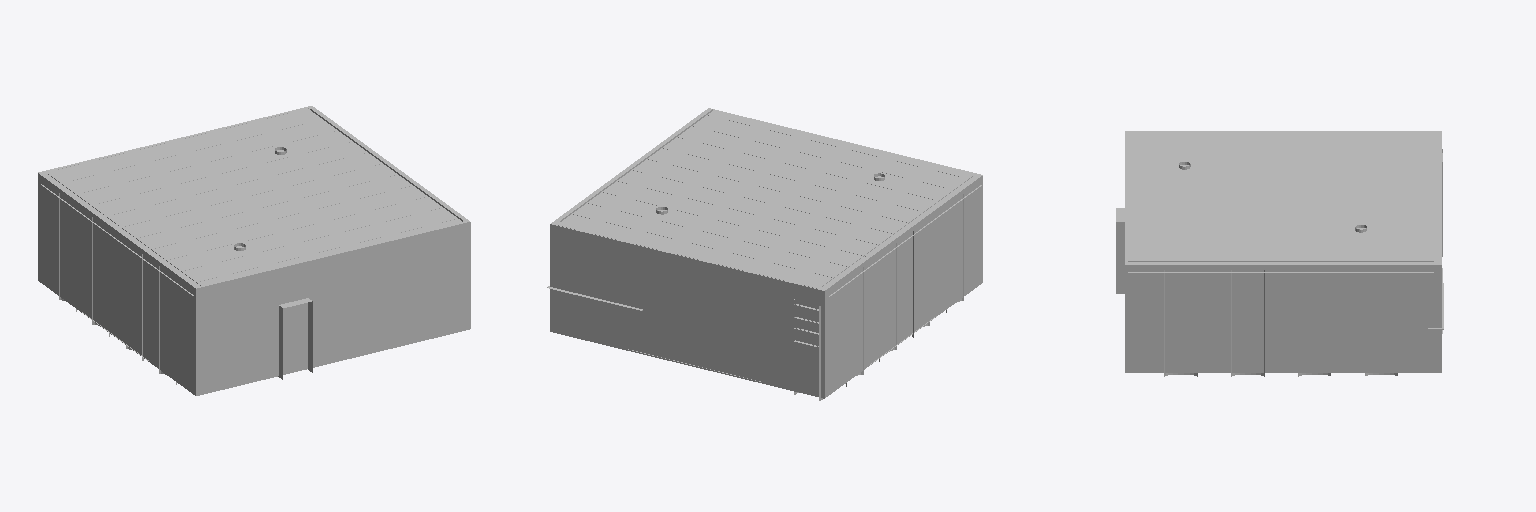
Rendered from set.obj.
3 renders of one model, left to right at view 1: azimuth 30°, elevation 25°; view 2: azimuth 150°, elevation 25°; view 3: azimuth 270°, elevation 25°, orthographic.
Visible parts, largest first — view 1: room.002, Cube, Cube.014; view 2: room.002, Cube; view 3: room.002, Cube, Cube.014, Cube.002, Cylinder.
Boxes of the visible parts, box(x1,y1,x2,y2) form: room.002: box(38, 106, 470, 395); Cube: box(44, 107, 457, 282); Cube.014: box(278, 298, 312, 379); room.002: box(550, 108, 982, 398); Cube: box(556, 114, 971, 288); room.002: box(1125, 131, 1441, 372); Cube: box(1137, 133, 1440, 262); Cube.014: box(1116, 208, 1124, 293); Cube.002: box(1128, 261, 1433, 272); Cylinder: box(1164, 270, 1397, 376).
Size of the model in its own units: 8.09 by 3.38 by 8.3.